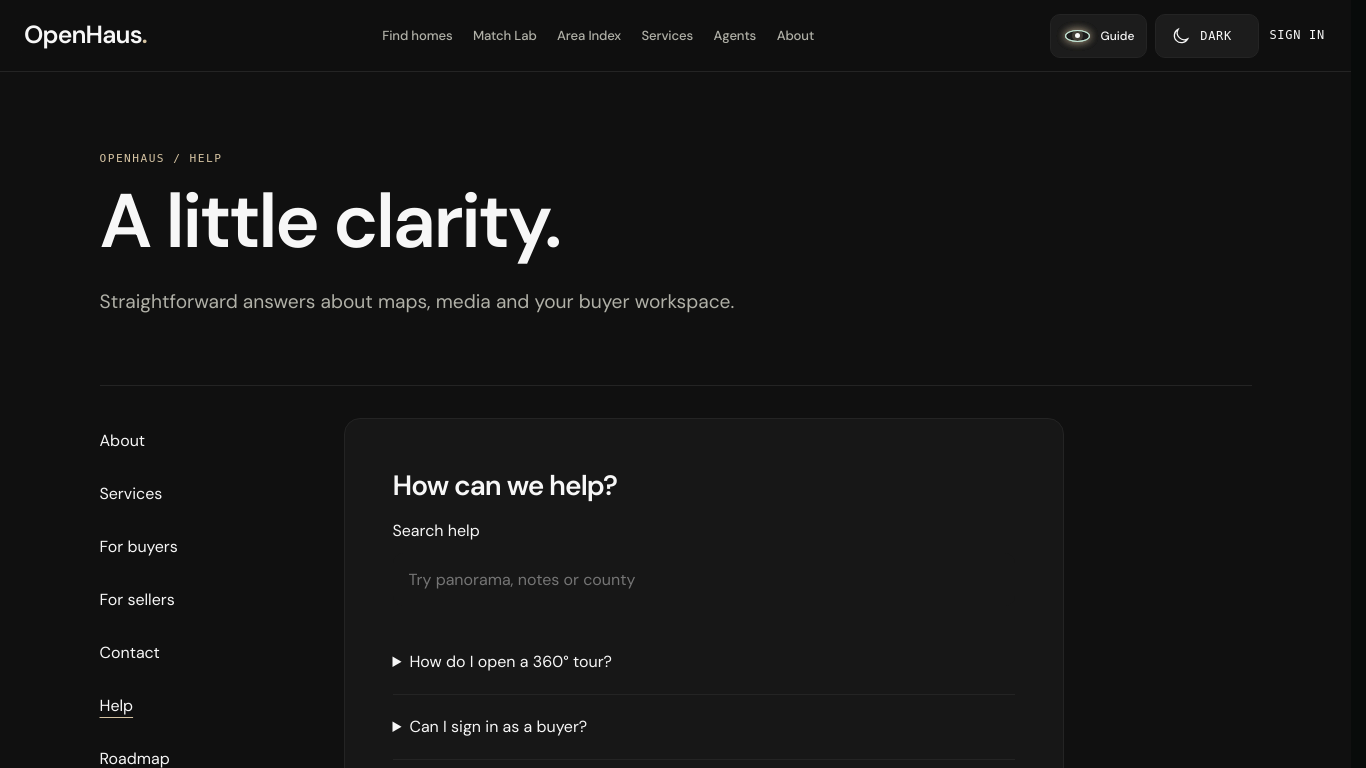
Scenario: filters help answers and gives a useful empty state
This screenshot has width=1366, height=768.
In the search field labelled "Search help": (704, 580) [392,553,1014,606], type "panorama"
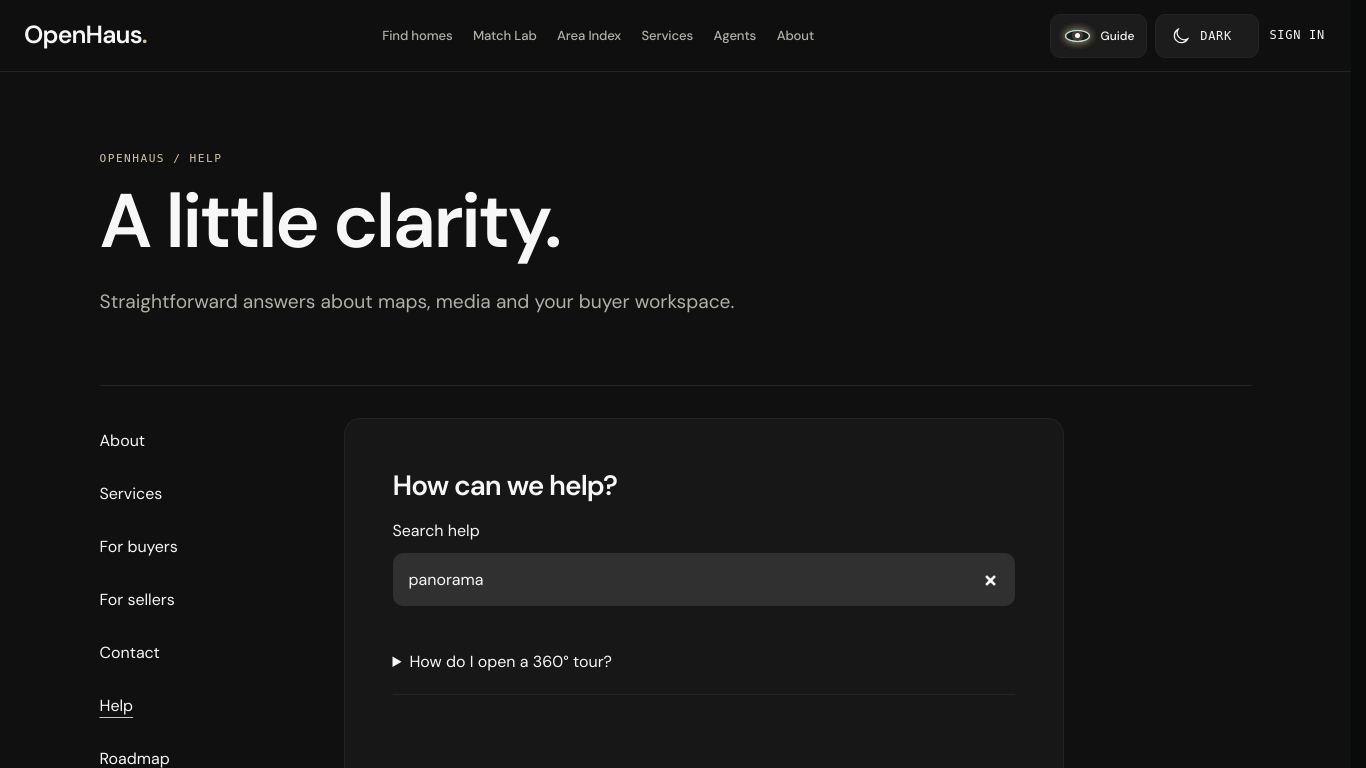
Expected: the heading "How do I open a 360° tour?" is shown, [409,651,612,672]
Expected: the heading "Can I sign in as a buyer?" is gone
Replace the text in the search field labelled "Search help" with "xyzxyz": (704, 580) [392,553,1014,606]
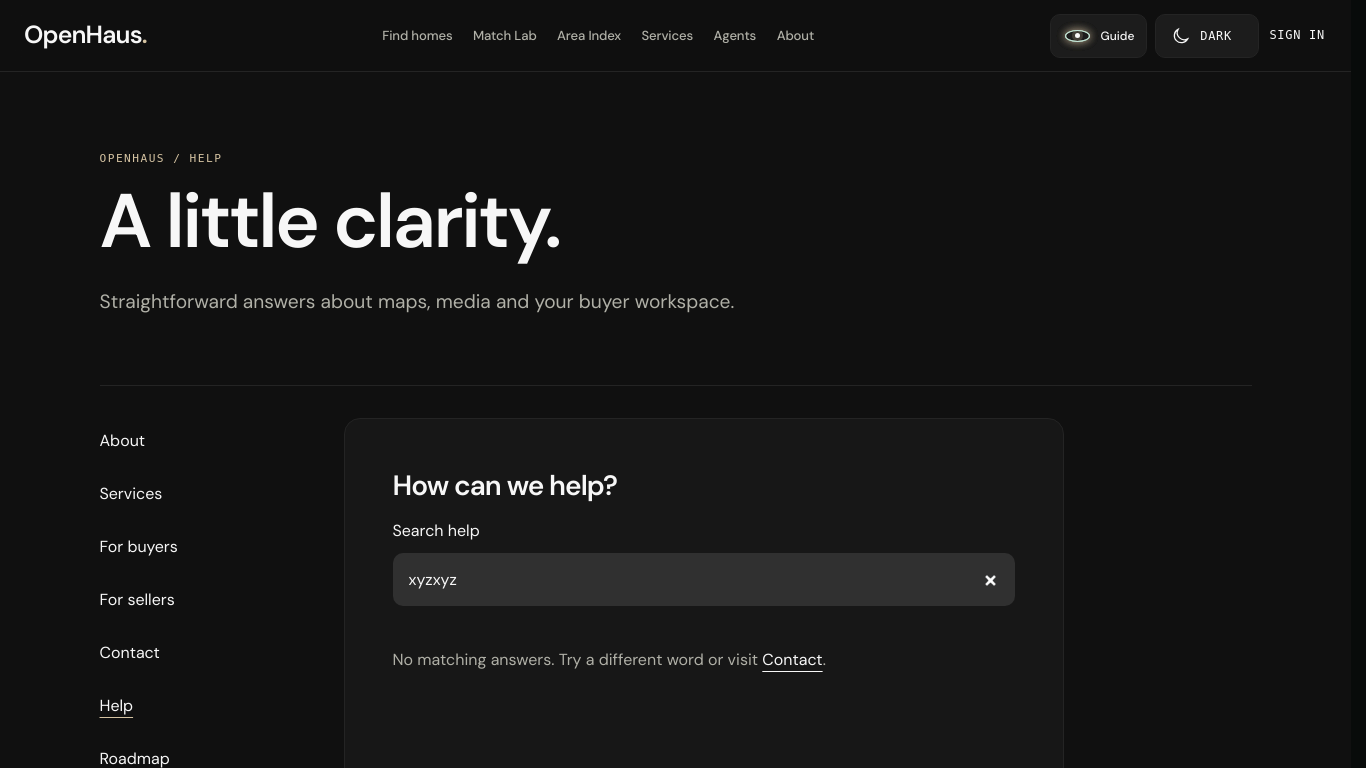
Expected: the message shows "No matching answers", [392,649,762,670]
